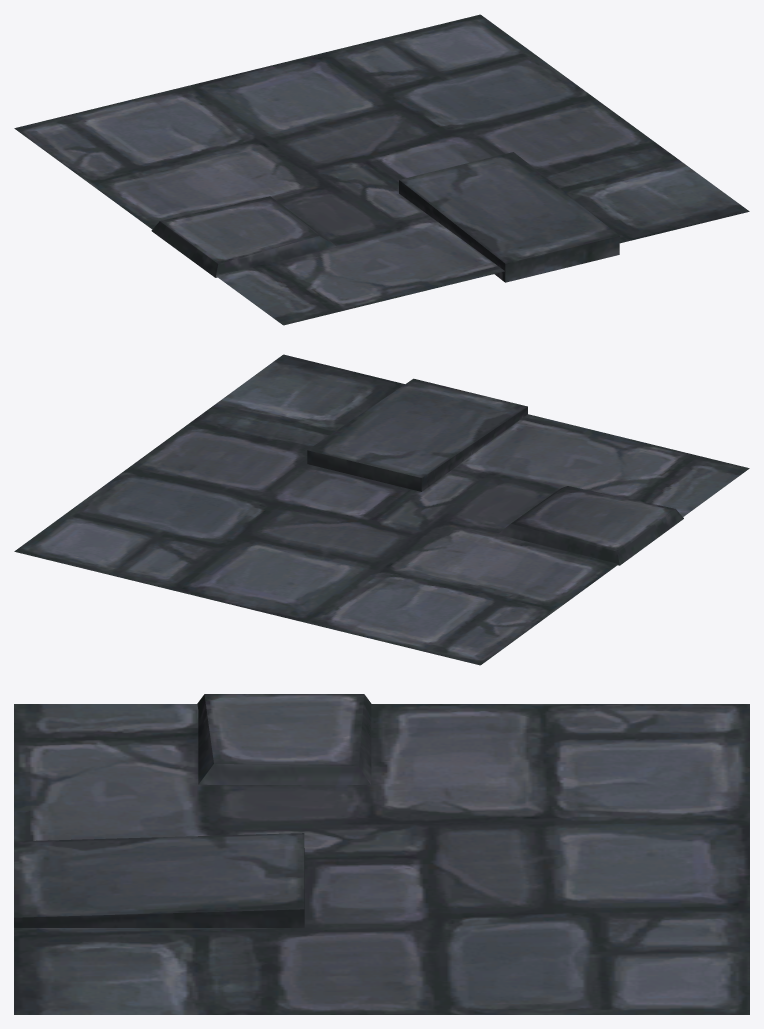
Rendered from crypt_floor_blank_noshadow_03.fbx.
3 renders of one model, top to bottom at view 1: azimuth 30°, elevation 25°; view 2: azimuth 150°, elevation 25°; view 3: azimuth 270°, elevation 25°, orthographic. The views are drawn at different scales.
Visible parts, largest first — view 1: crypt_tileset/crypt_floor01; view 2: crypt_tileset/crypt_floor01; view 3: crypt_tileset/crypt_floor01.
Part boxes in pixels (x1,y1,x2,y2): crypt_tileset/crypt_floor01: (14, 14, 749, 325); crypt_tileset/crypt_floor01: (14, 354, 749, 665); crypt_tileset/crypt_floor01: (14, 694, 749, 1014).
Bounding box in the file's own units: 4.01 × 0.2066 × 4.
